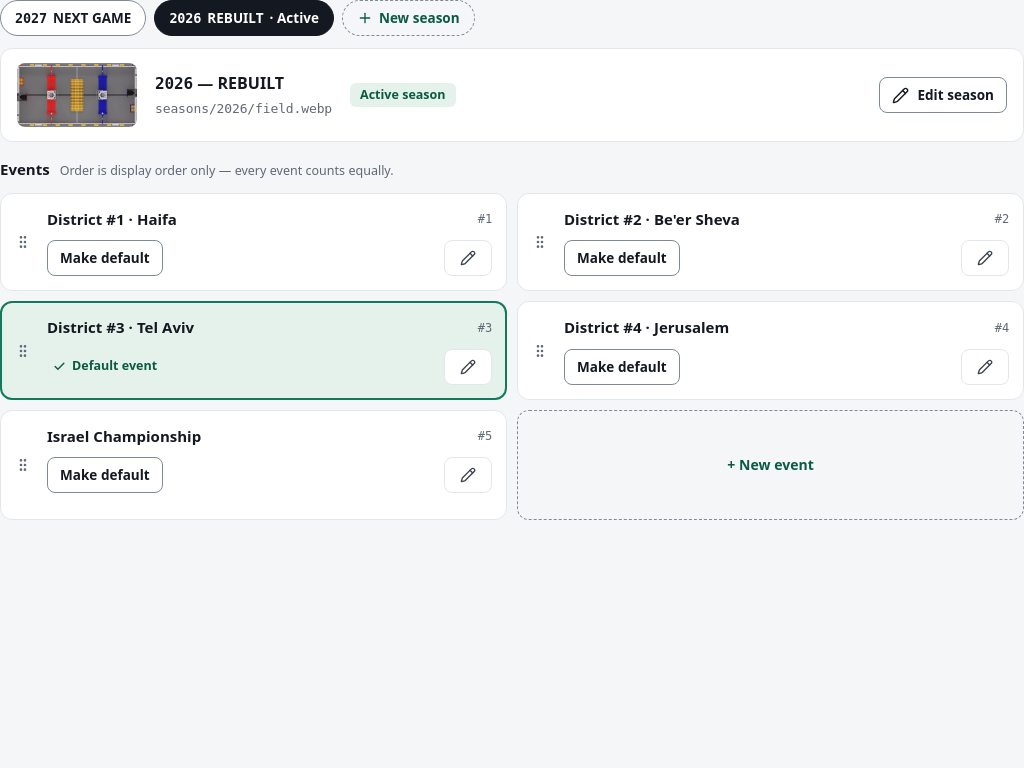
Scenario: CompetitionsPanel — events › deletes an event from its ✎ dialog once the damage is named and the name typed
Step 1. Click the button named "Rename District #1 · Haifa" → (468, 258), box left=444, top=240, right=492, bottom=276
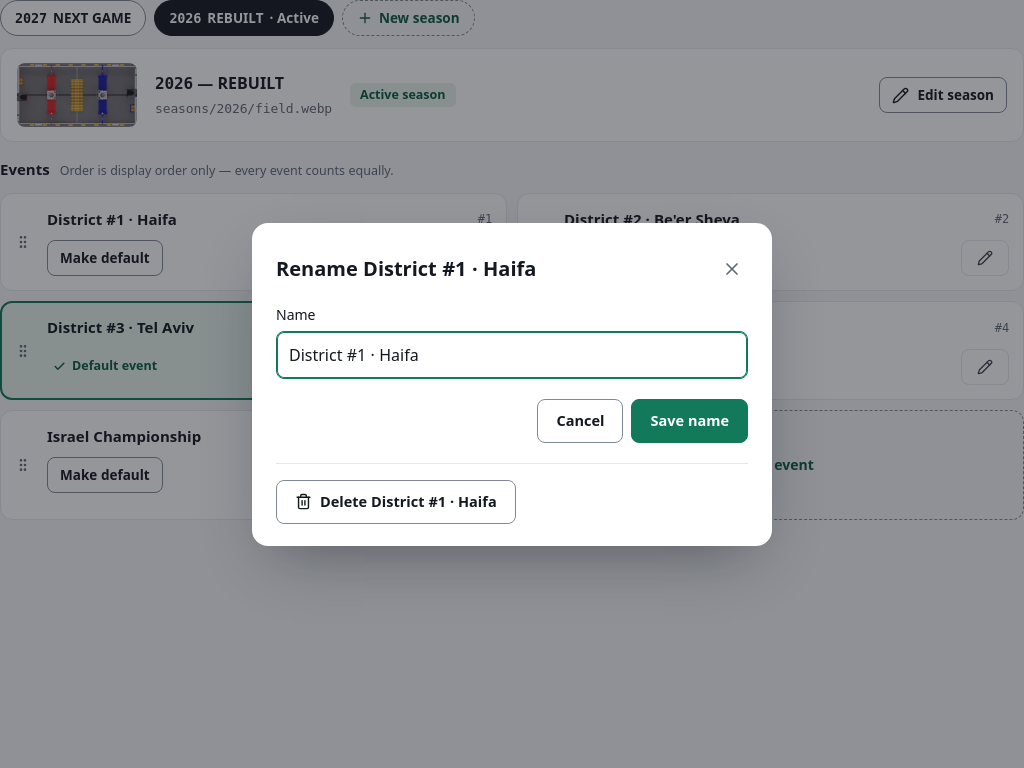
Step 2. Click the button "Delete District #1 · Haifa" → (396, 502), box left=276, top=480, right=516, bottom=524
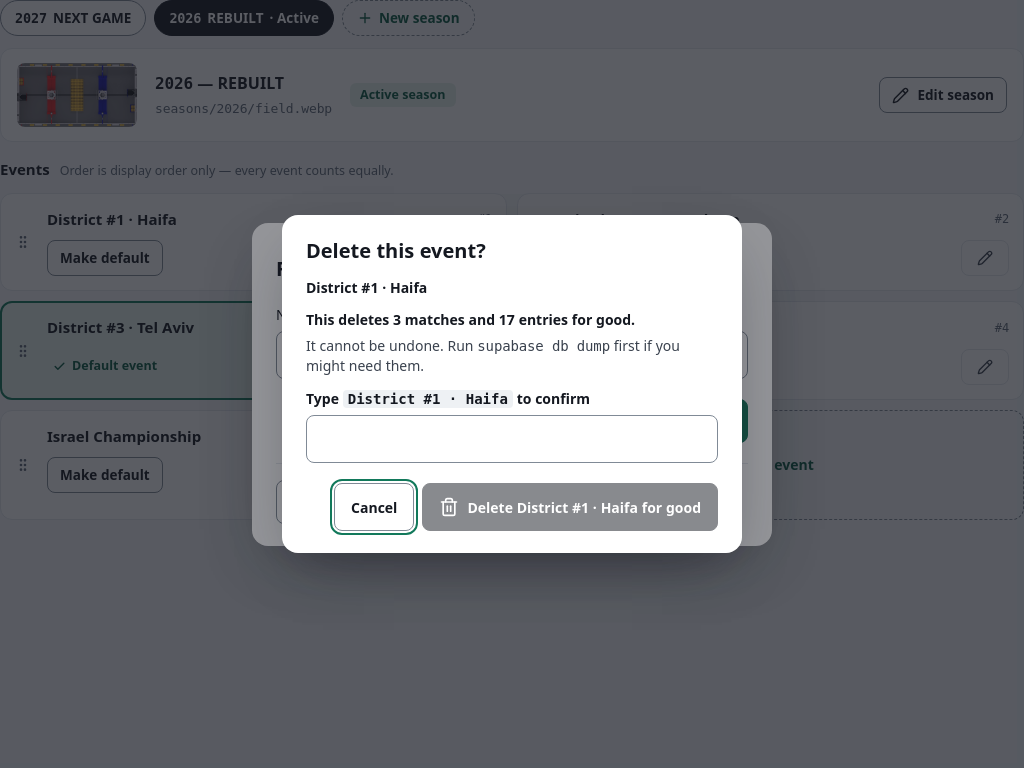
Expected: the dialog "Delete this event?" shows "This deletes 3 matches and 17 entries for good.", left=306, top=310, right=635, bottom=329
Step 3. Type "District #1 · Haifa" into the field labelled "Type District #1 · Haifa to confirm" → (512, 439), box left=306, top=415, right=718, bottom=463
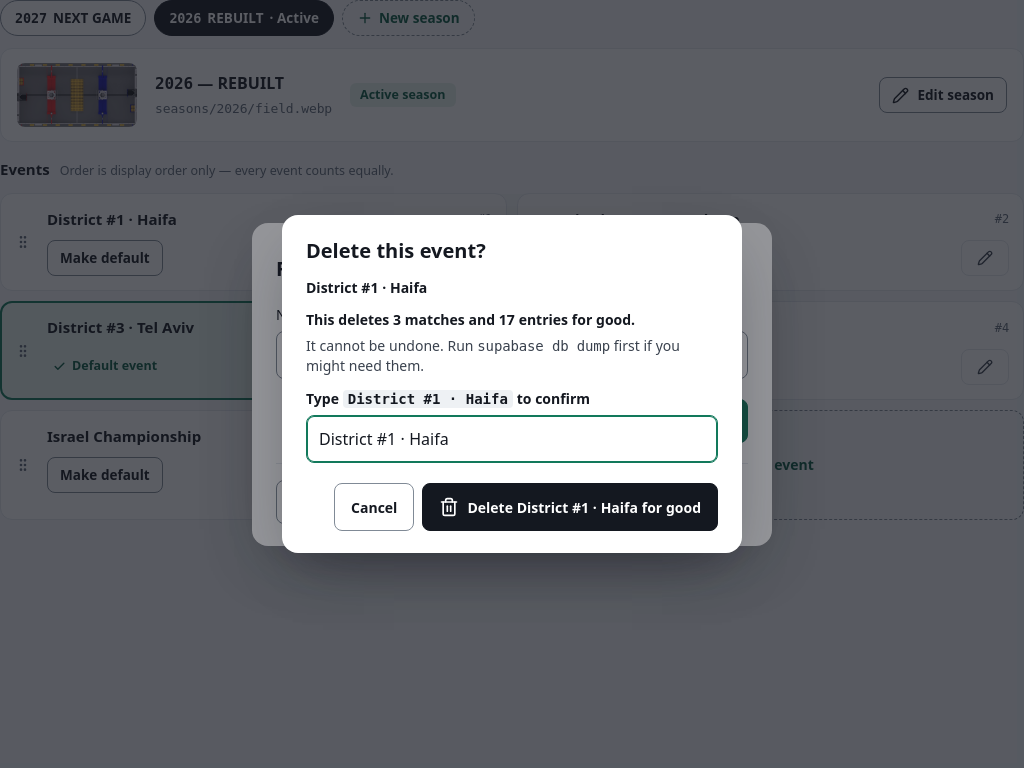
Step 4. Click the button "Delete District #1 · Haifa for good" → (570, 507), box left=422, top=483, right=718, bottom=531
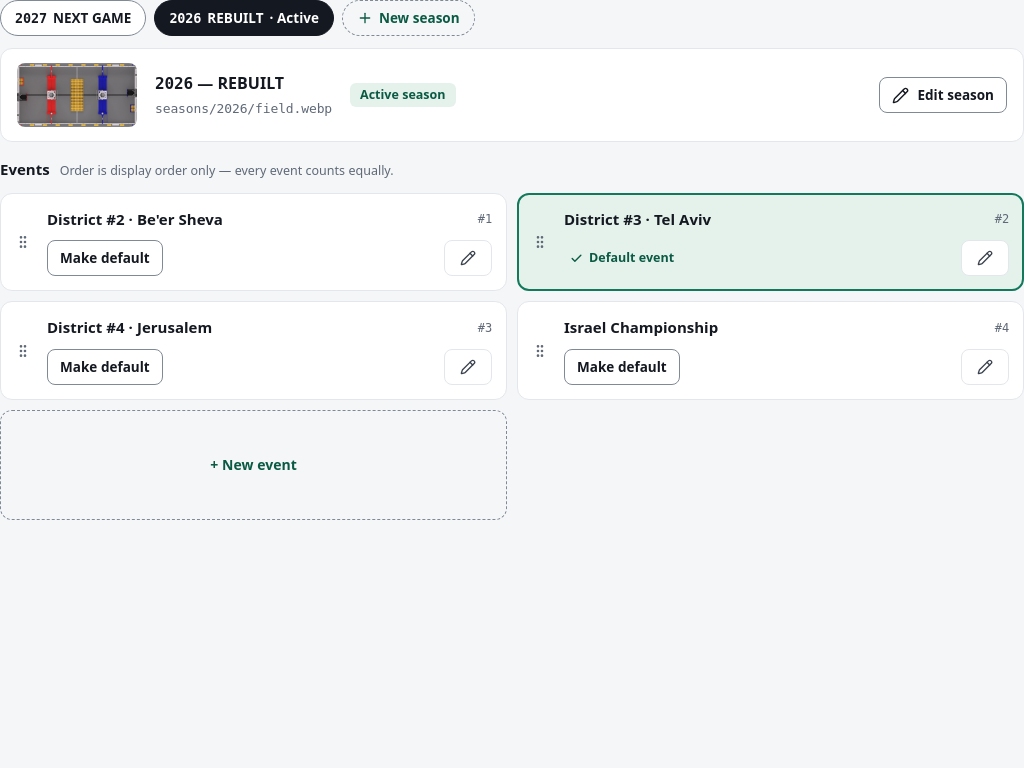
Expected: the dialog is gone
Expected: the heading "District #1 · Haifa" no longer shows "District #1 · Haifa"
